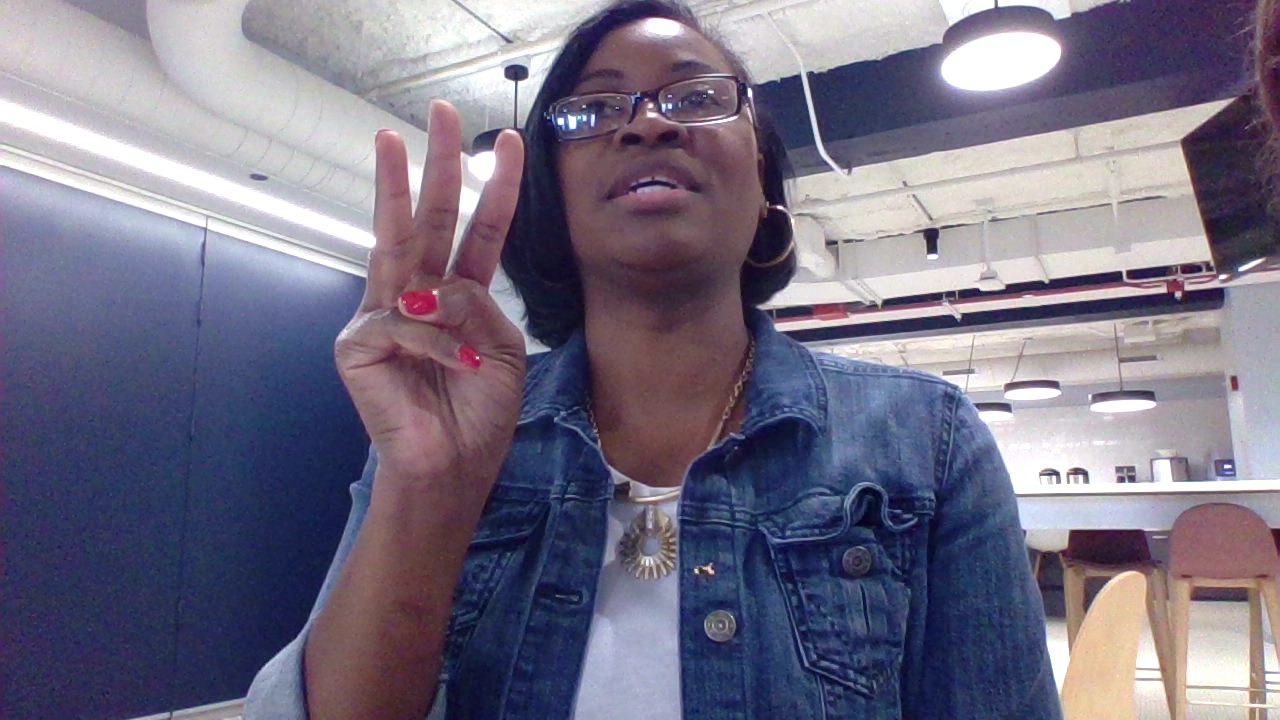w: (317, 79, 548, 504)
